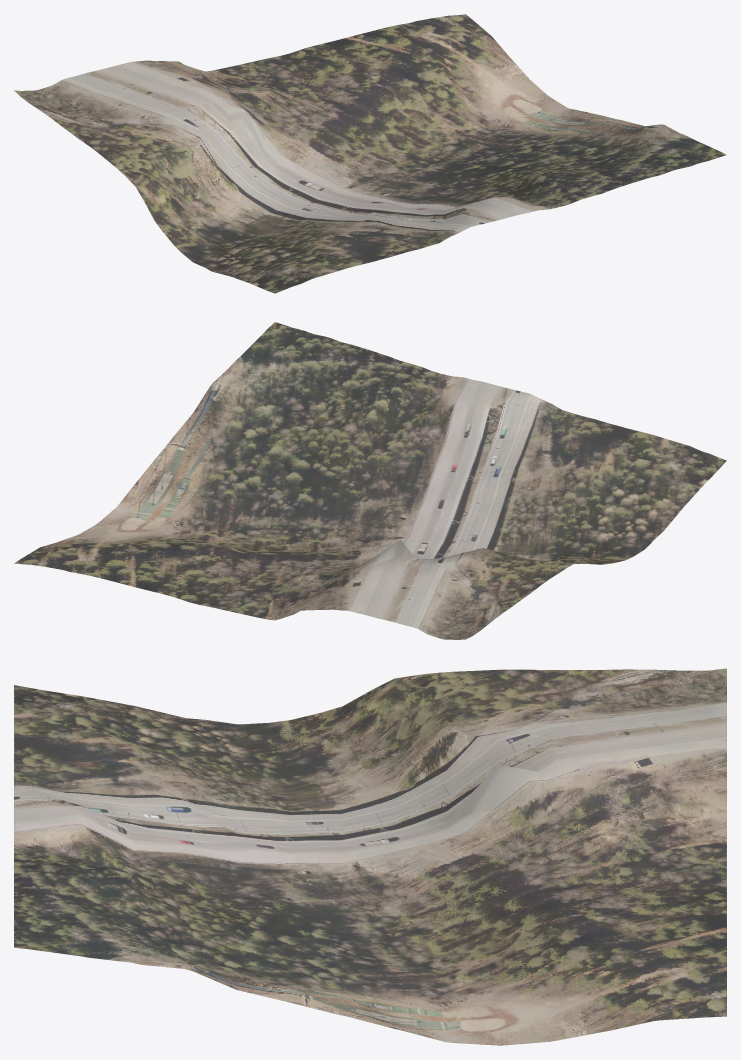
Rendered from CM_Terrain_24491687_6816722.fbx.
The picture shows the model from 3 angles, top to bottom: view 1: azimuth 30°, elevation 25°; view 2: azimuth 150°, elevation 25°; view 3: azimuth 270°, elevation 25°; orthographic projection. The views are drawn at different scales.
Parts seen in each view (by area): view 1: CM_Terrain_24491687_6816722_LOD0; view 2: CM_Terrain_24491687_6816722_LOD0; view 3: CM_Terrain_24491687_6816722_LOD0.
Part boxes in pixels (x1,y1,x2,y2): CM_Terrain_24491687_6816722_LOD0: [14, 14, 726, 293]; CM_Terrain_24491687_6816722_LOD0: [14, 322, 726, 639]; CM_Terrain_24491687_6816722_LOD0: [14, 668, 726, 1045].
Size of what is drawn, in the model's own units: 205 by 31.16 by 205.
